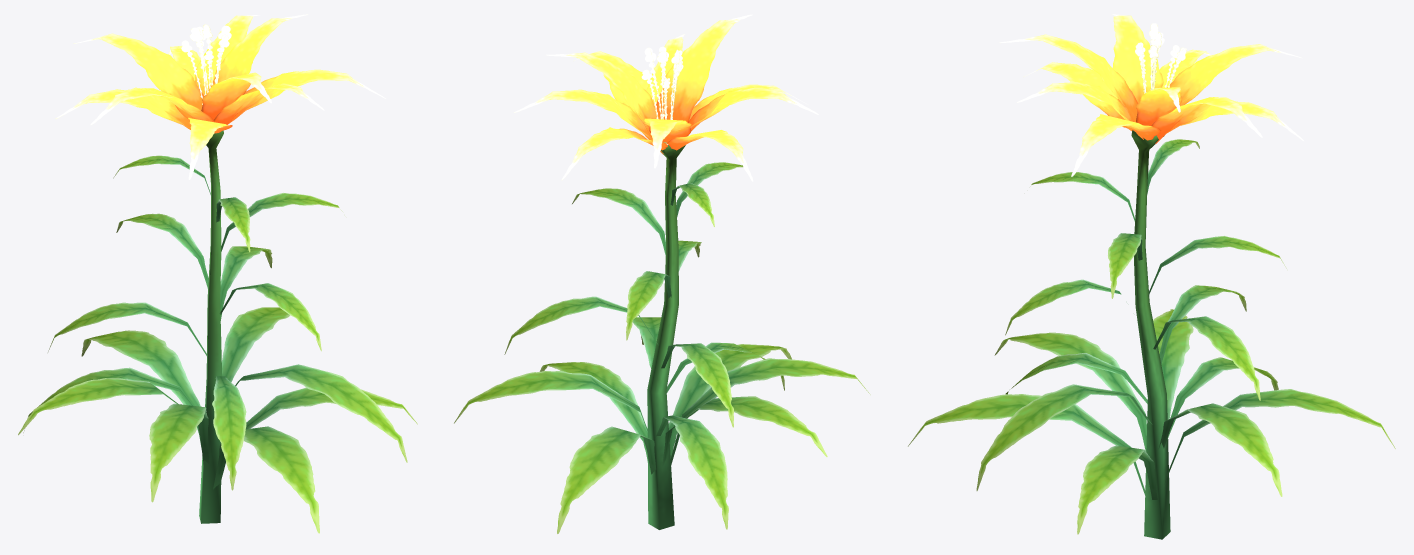
The model's file is SM_ENV_flower_ancient_08.fbx.
The picture shows the model from 3 angles, left to right: view 1: azimuth 30°, elevation 25°; view 2: azimuth 150°, elevation 25°; view 3: azimuth 270°, elevation 25°; orthographic projection. The views are drawn at different scales.
Parts seen in each view (by area): view 1: SM_ENV_flower_ancient_08_LOD0; view 2: SM_ENV_flower_ancient_08_LOD0; view 3: SM_ENV_flower_ancient_08_LOD0.
Boxes of the visible parts, <box> form: SM_ENV_flower_ancient_08_LOD0: <box>18,14,417,533</box>; SM_ENV_flower_ancient_08_LOD0: <box>454,14,870,533</box>; SM_ENV_flower_ancient_08_LOD0: <box>908,14,1395,539</box>.
Bounding box in the file's own units: 40.99 × 55.07 × 48.57.
